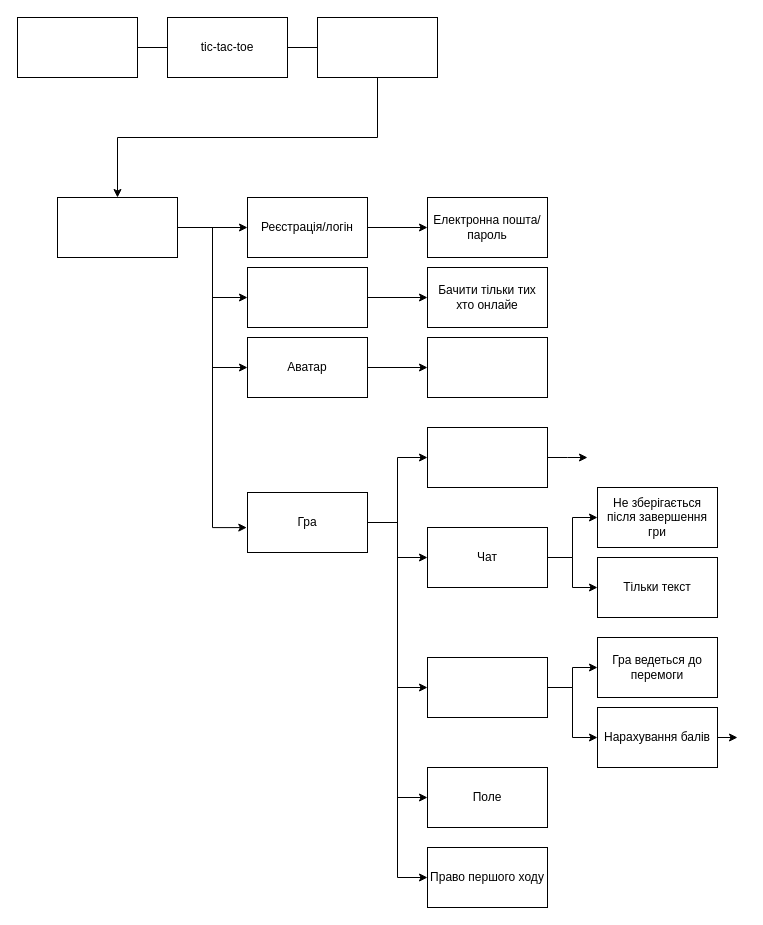
This 763x925 diagram has some shape labels left out. The shapes that lost their labels are listed below. From the top down, each one's centre as x and y in pixels, then its label:
the point at 77,47: Space
the point at 377,47: 1 version
the point at 117,227: Робоче місце гравця
the point at 307,297: Статус гравця
the point at 487,367: Завантаження зображення
the point at 487,457: Режим вибору противника
the point at 487,687: Розрахунок рейтингів
